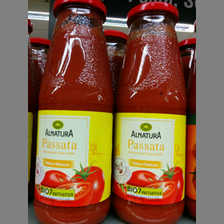tomato_sauce: (34, 1, 116, 224), (113, 2, 189, 224)
